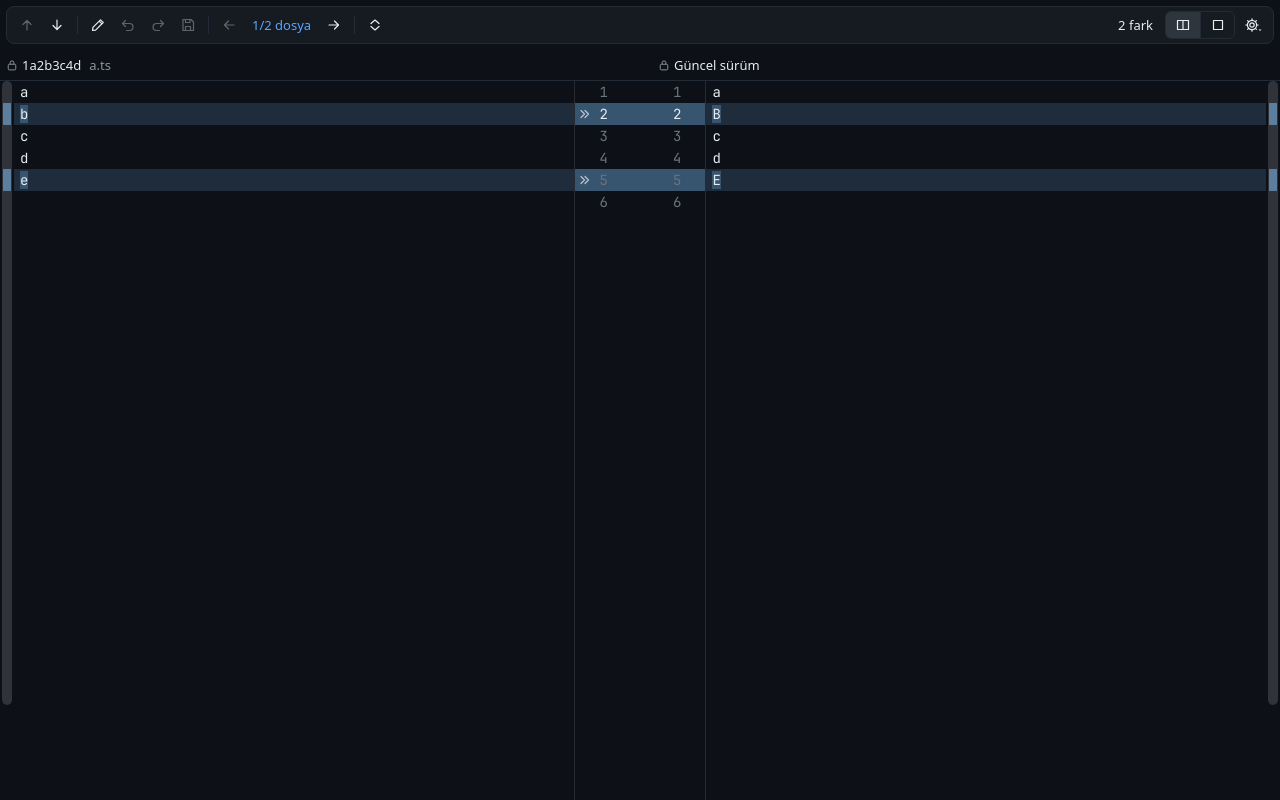
Test: » ile bloğu geri almak › 'Diskteki hâli yükle' buradaki değişikliği bırakıyor
Click the button named "Düzenle (F4)" at coordinates (98, 25), box x1=84 y1=11 x2=112 y2=39
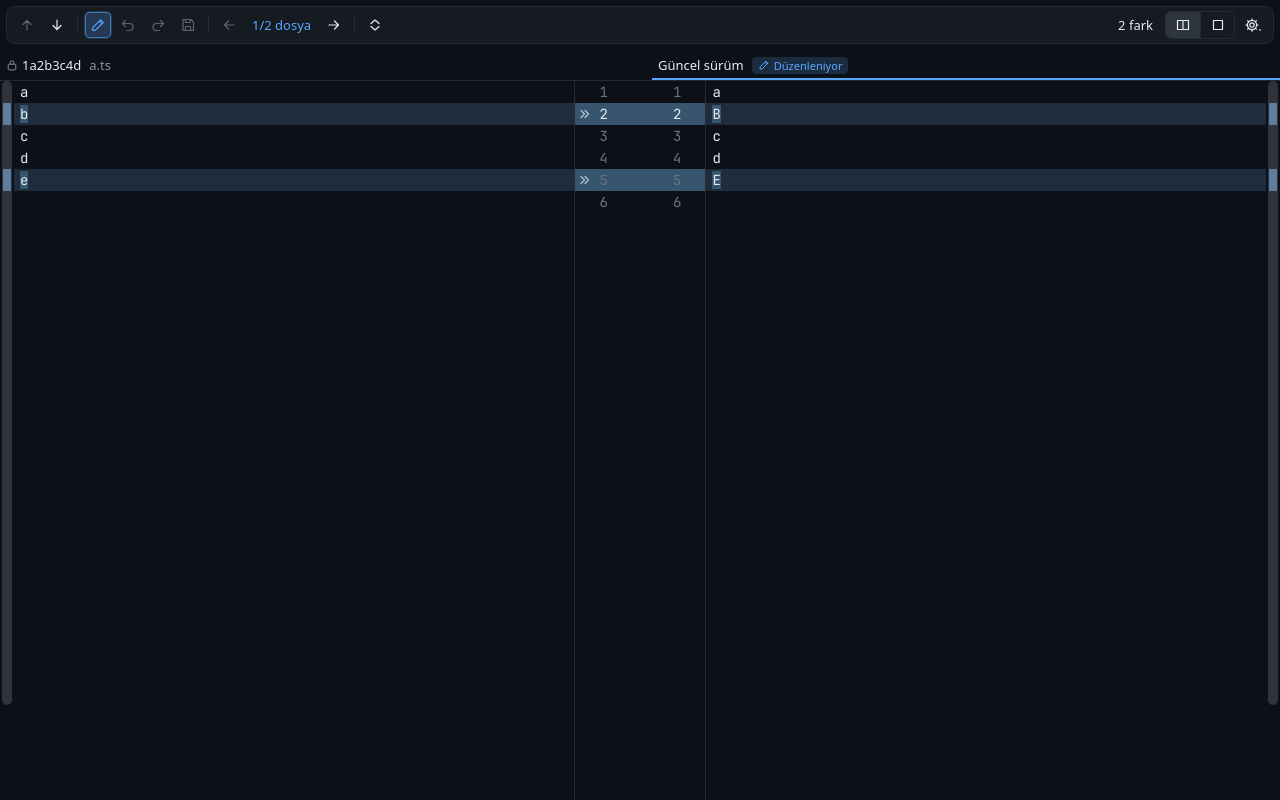
Click the 1st button with class "dw-arrow" at coordinates (585, 114), box x1=576 y1=104 x2=594 y2=124
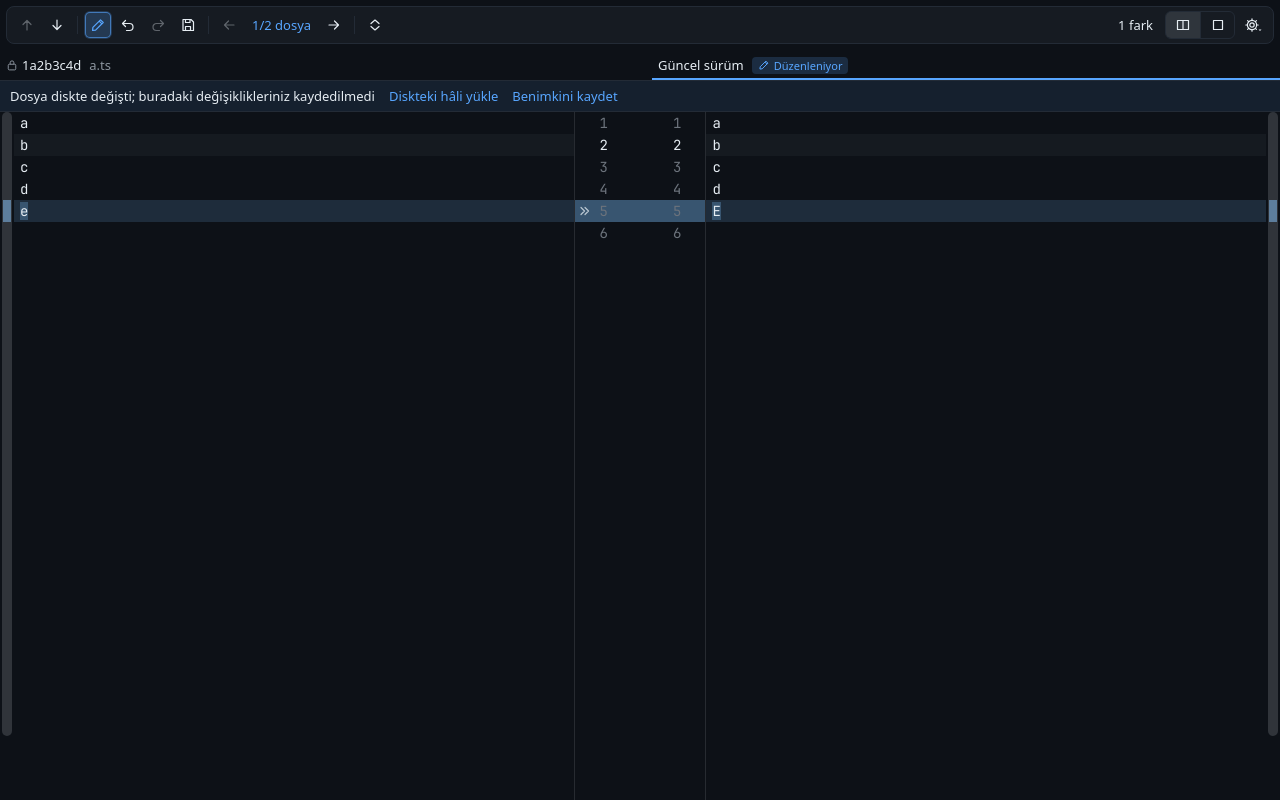
Click the button "Diskteki hâli yükle" at coordinates (444, 96), box x1=389 y1=87 x2=498 y2=105
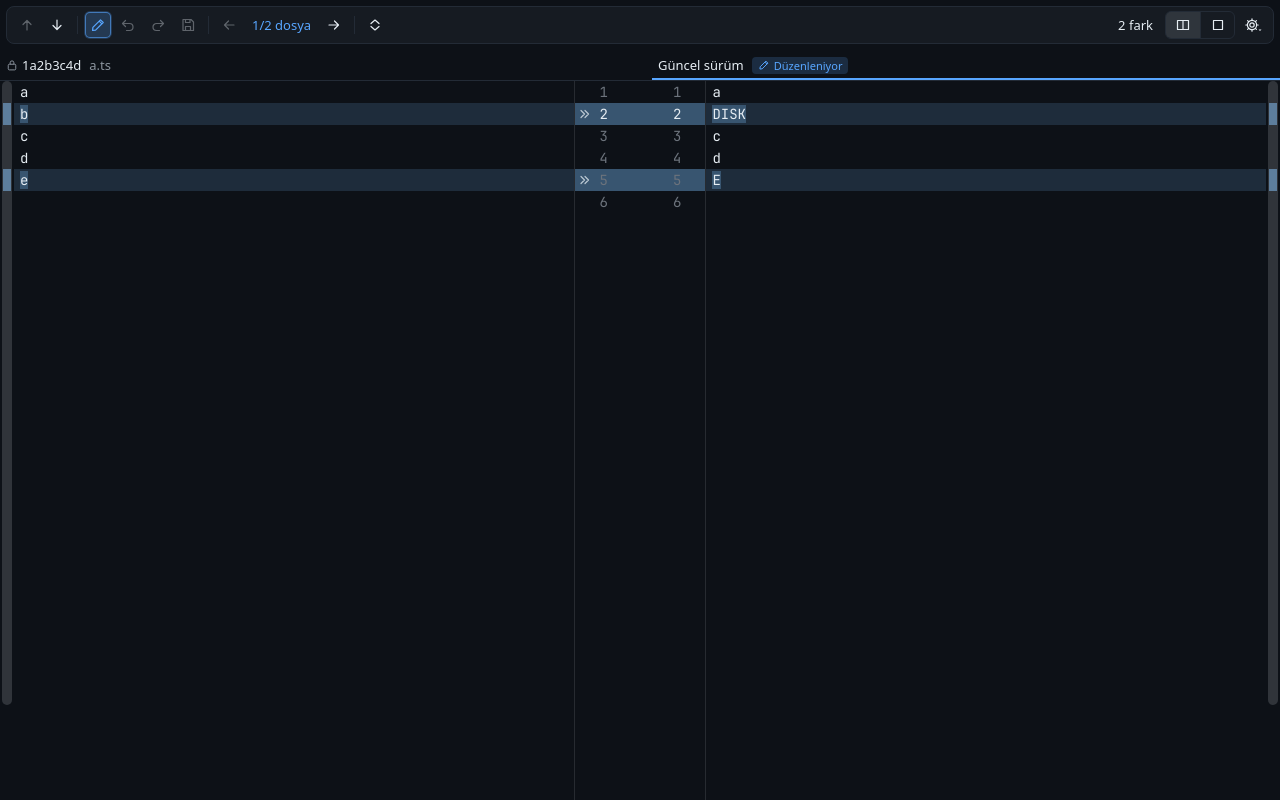
Expected: the message with class "warn" is gone
